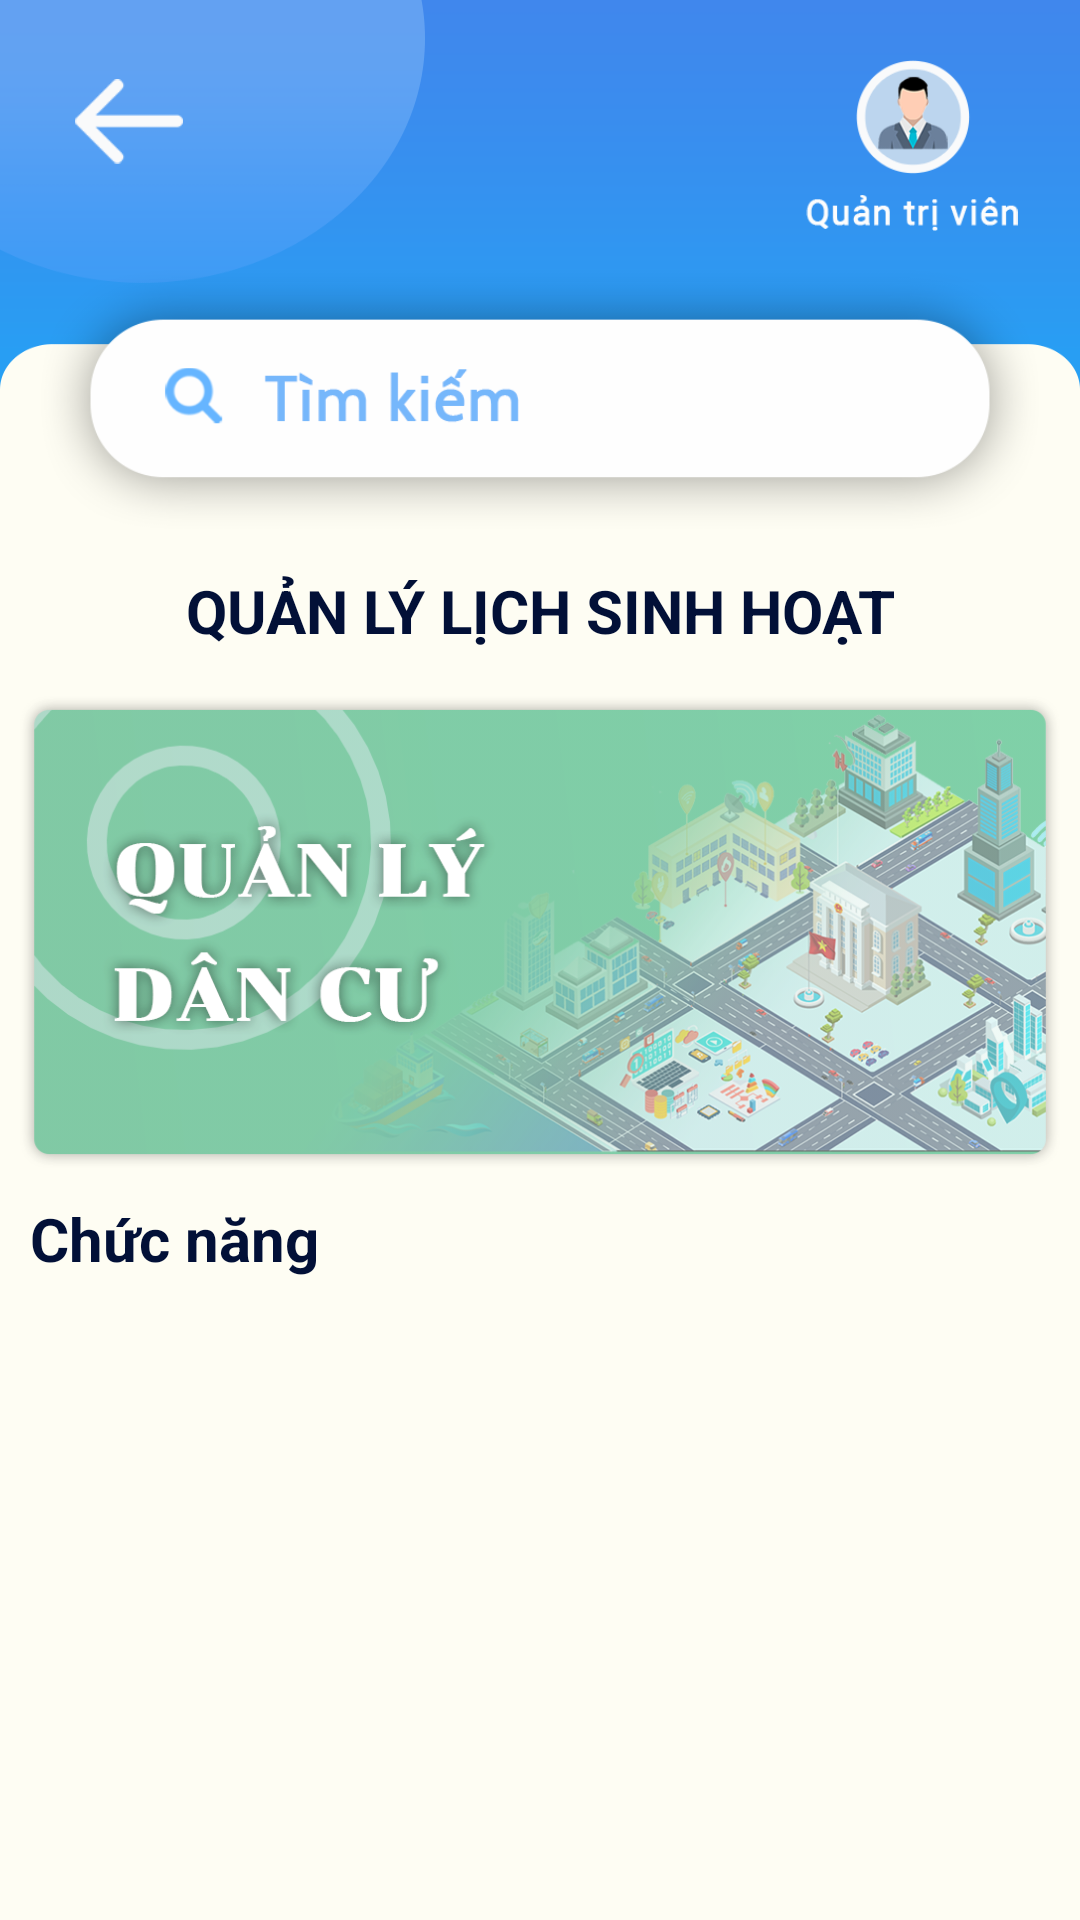

Where to tap for icons on this 1080px×1920px app screen, as point (x, y):
muiten: point (129, 131)
